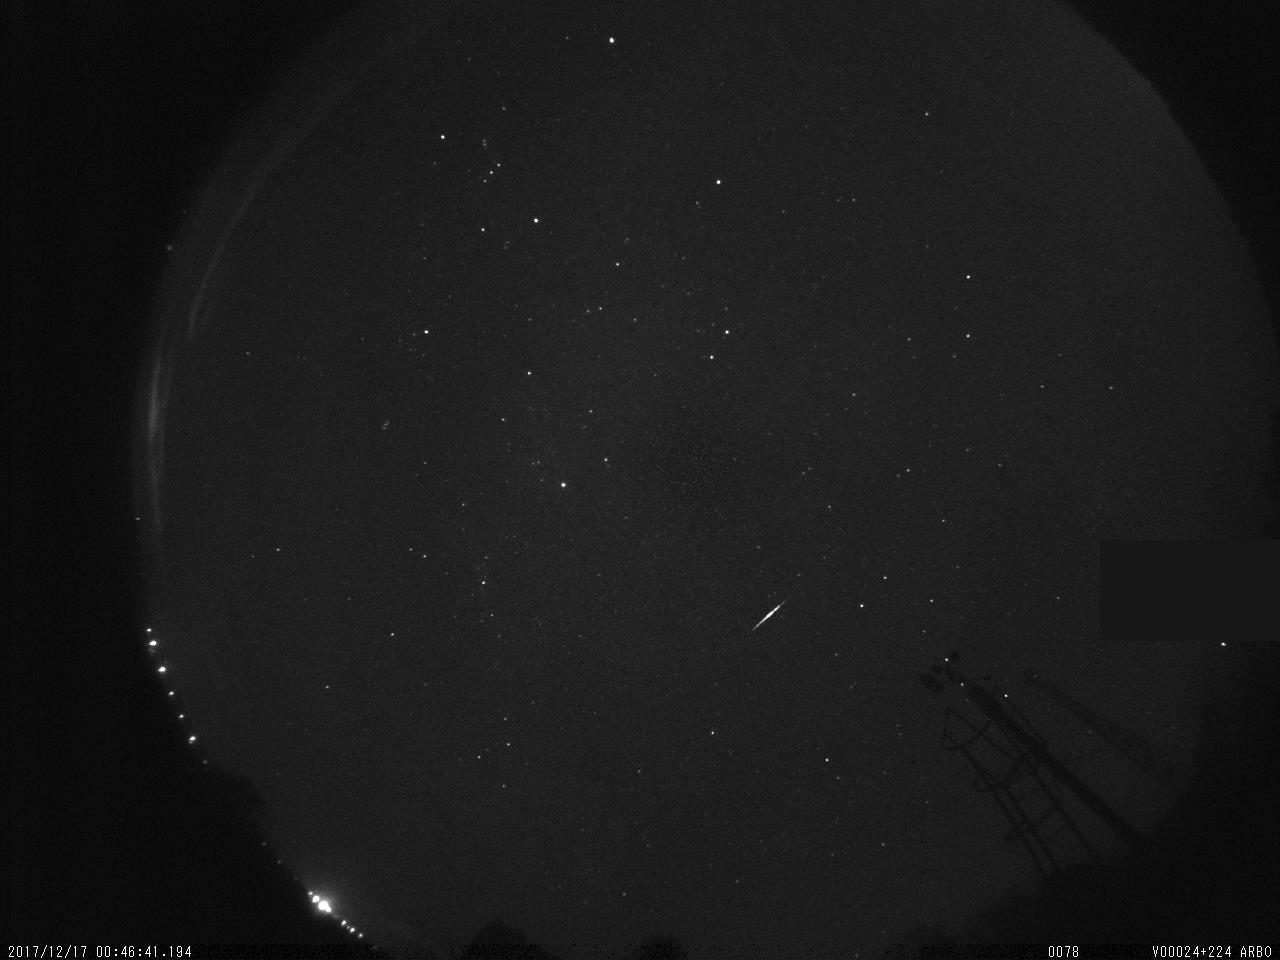Meteor: (748, 594, 790, 634)
